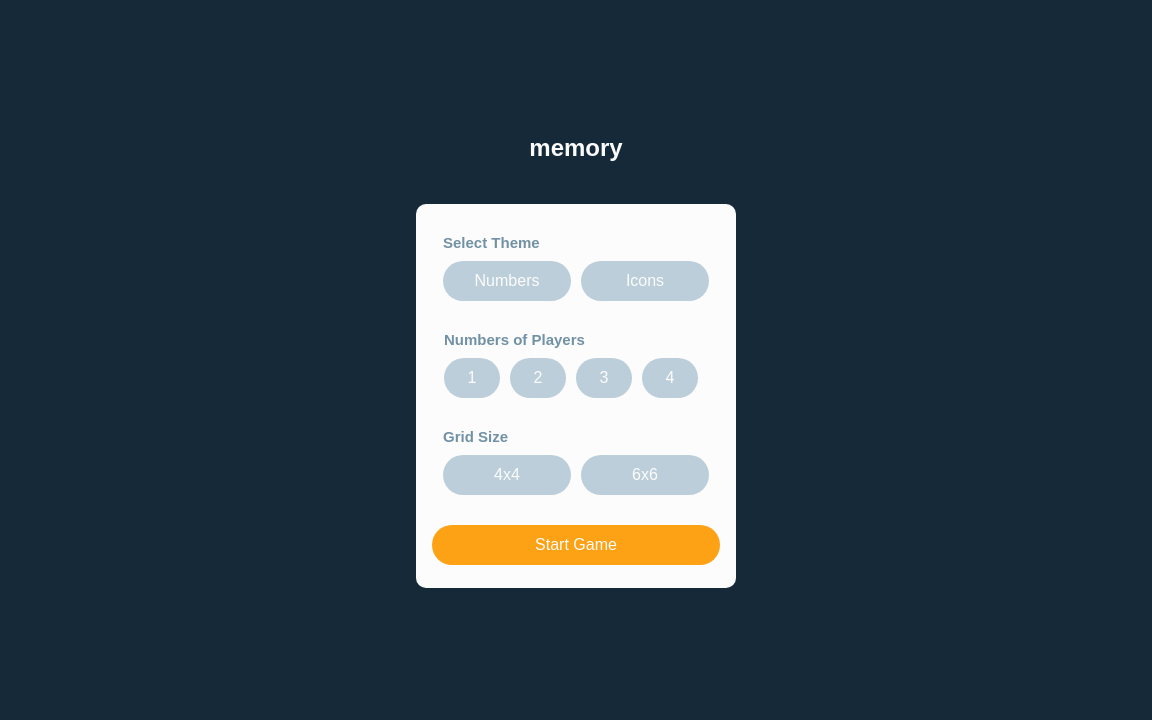
Test: test start game › when an icon, a single player and 4x4 grid is selected
The width and height of the screenshot is (1152, 720).
Click the button with test id "icons" at (645, 281), box left=581, top=261, right=709, bottom=301
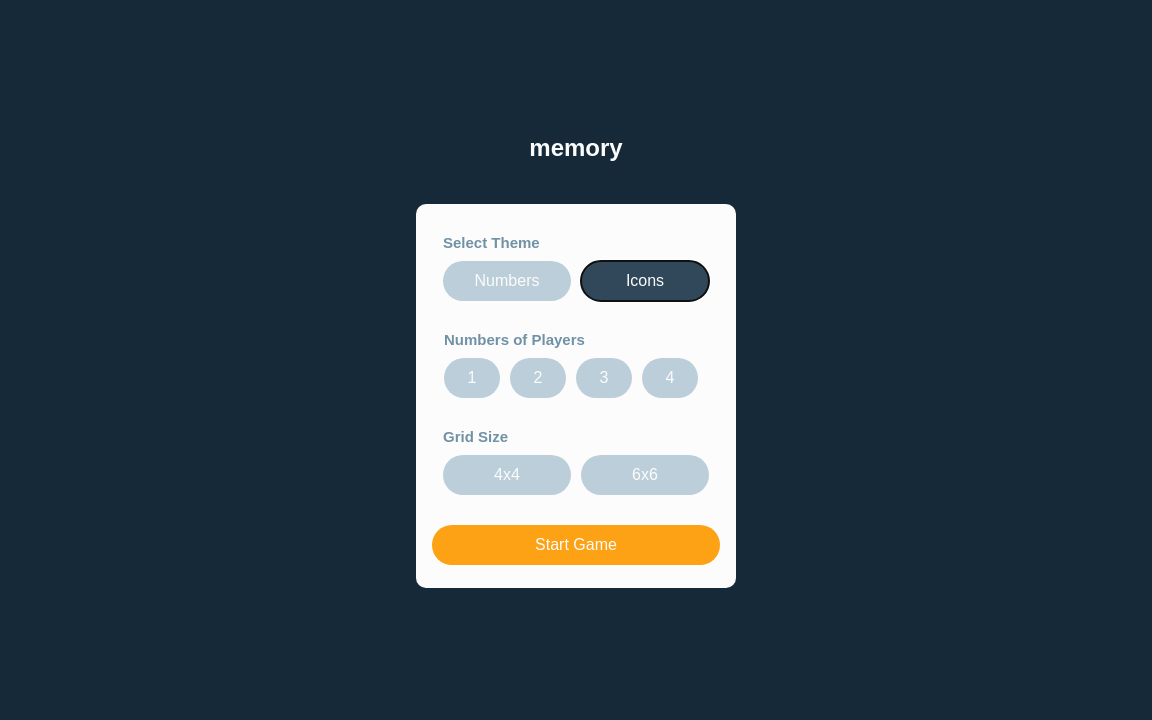
Click the button with test id "player number 1" at (472, 378), box left=444, top=358, right=500, bottom=398
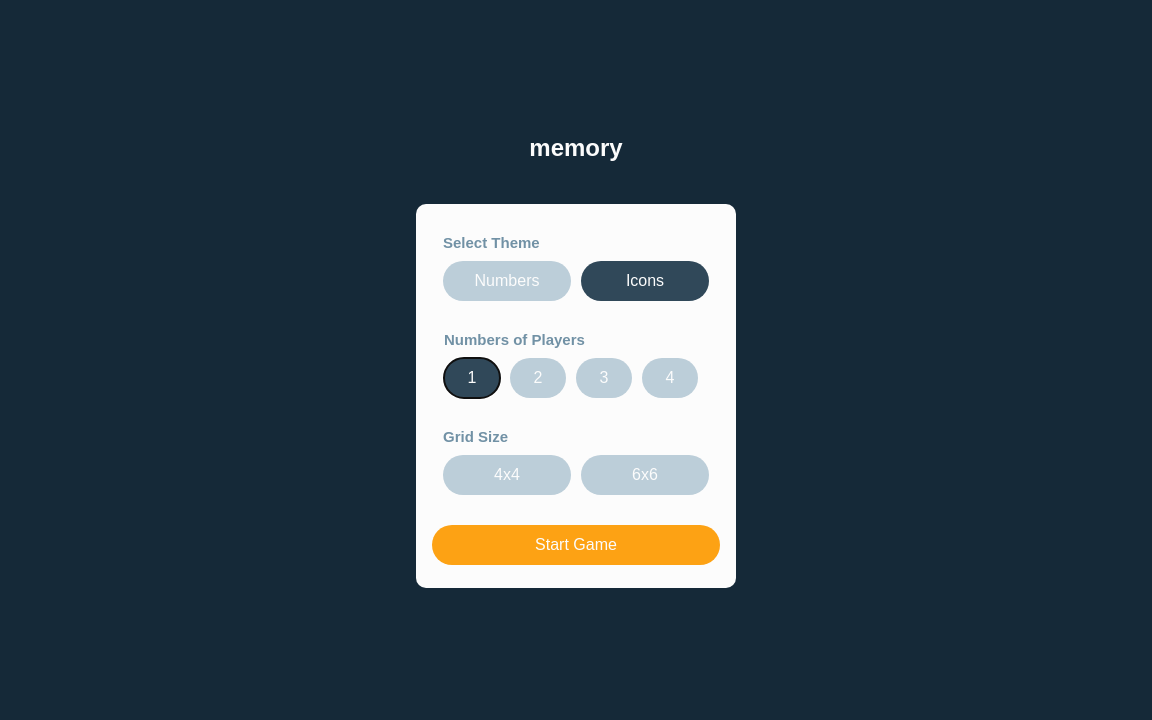
Click the button with test id "4x4" at (507, 475), box left=443, top=455, right=571, bottom=495
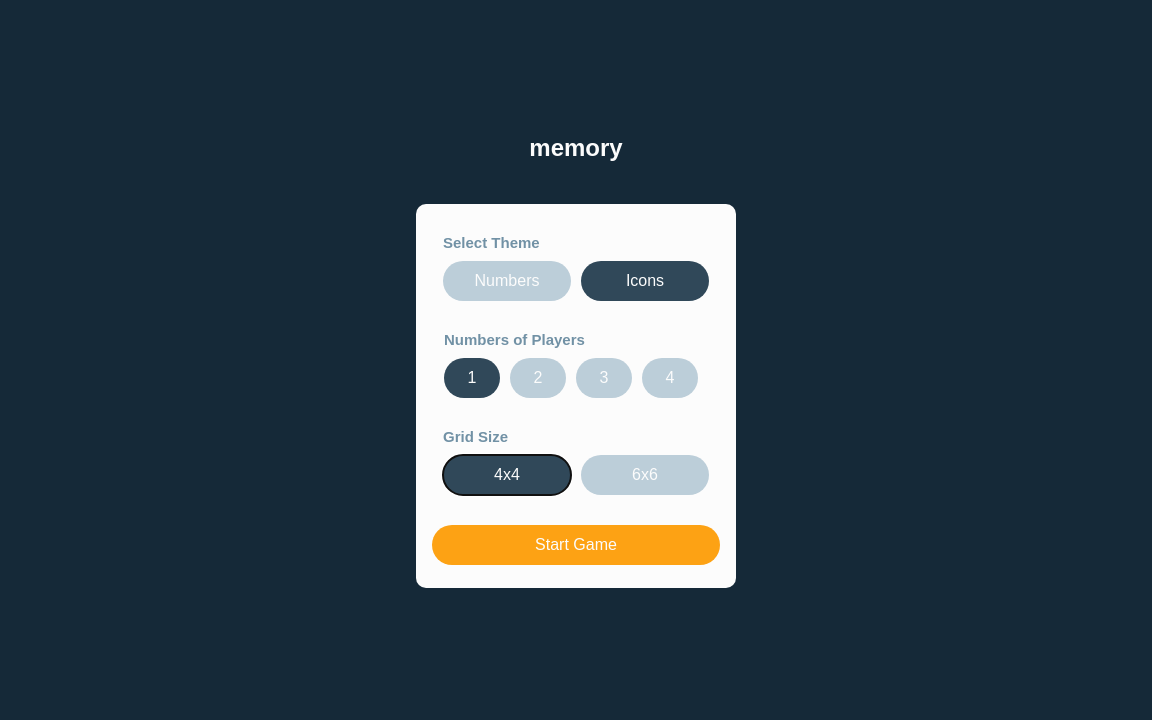
Click the button with test id "start-game" at (576, 545), box left=432, top=525, right=720, bottom=565
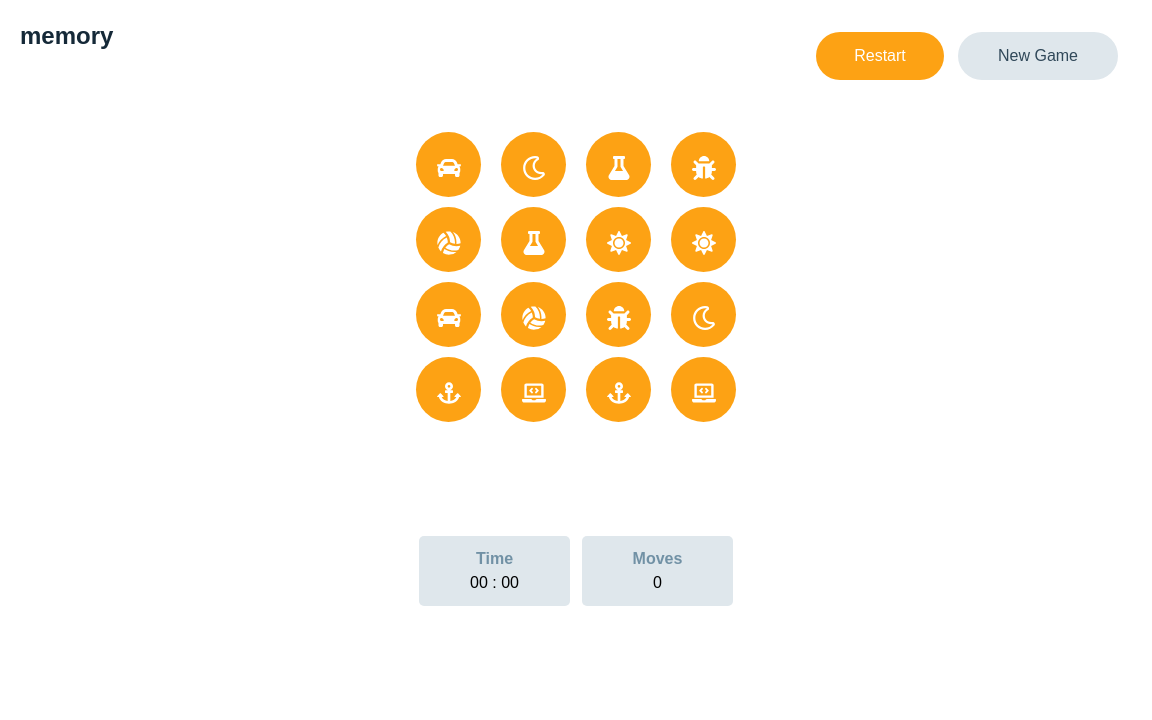
Now the element with test id "16" is shown, box left=671, top=357, right=736, bottom=422
Now the text "Time" is shown, box left=476, top=547, right=513, bottom=571
Now the text "Moves" is shown, box left=633, top=547, right=682, bottom=571
